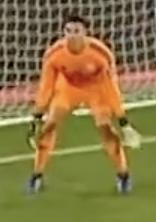goalkeeper: (16, 8, 151, 206)
